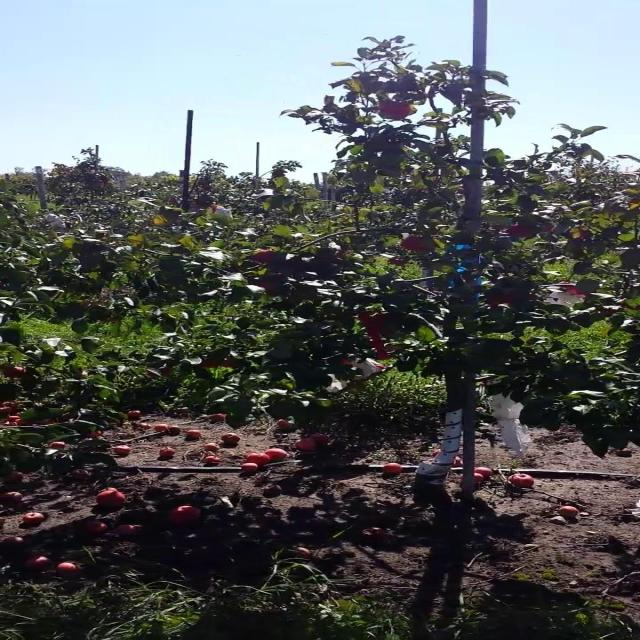apple: (383, 104, 416, 120), (404, 236, 432, 252), (490, 292, 517, 307), (369, 312, 393, 327), (255, 280, 277, 296), (561, 284, 588, 297), (255, 252, 277, 264), (6, 368, 28, 379), (355, 312, 375, 323), (511, 228, 533, 237), (376, 352, 391, 361), (575, 232, 590, 240), (340, 360, 357, 367), (205, 360, 219, 368), (156, 220, 169, 227), (390, 260, 407, 265), (547, 224, 556, 233), (525, 296, 540, 301), (163, 368, 171, 376), (227, 360, 235, 367)
